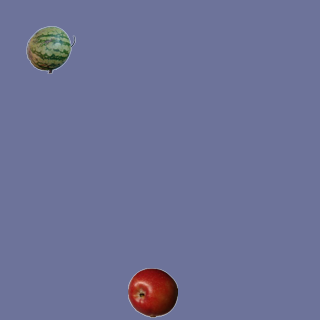Apple Braeburn: (127, 267, 177, 317)
Watermelon: (25, 24, 75, 74)
